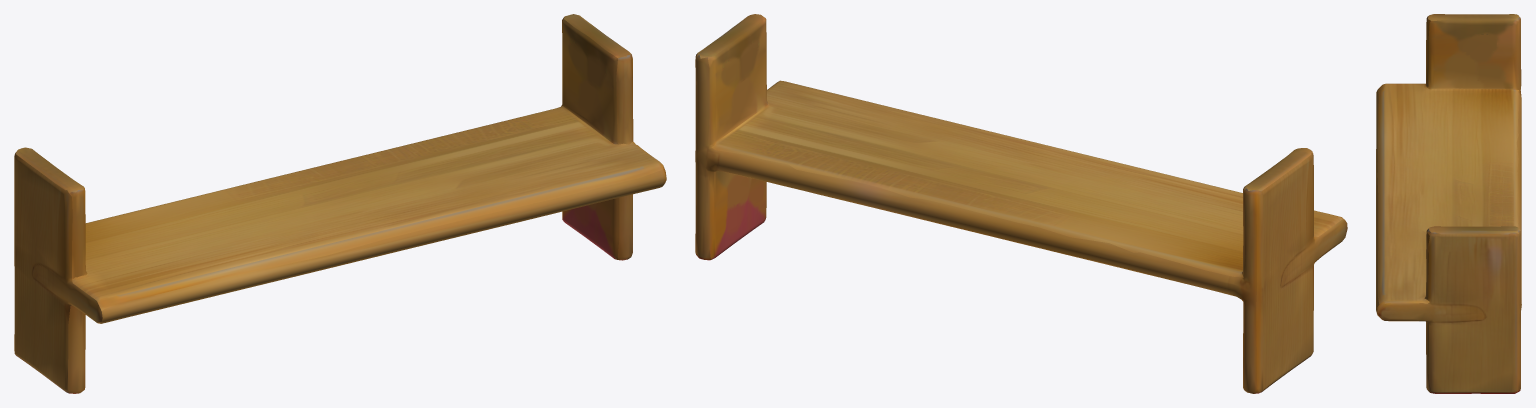
The model's file is EtagereBois_3D_textured.glb.
3 views of the same model, side by side, from view 1: azimuth 30°, elevation 25°; view 2: azimuth 150°, elevation 25°; view 3: azimuth 270°, elevation 25° (orthographic). The views are drawn at different scales.
Visible parts, largest first — view 1: temp_mesh.ply; view 2: temp_mesh.ply; view 3: temp_mesh.ply.
Boxes of the visible parts, x1,y1,x2,y2 form: temp_mesh.ply: [14, 14, 666, 393]; temp_mesh.ply: [695, 14, 1347, 393]; temp_mesh.ply: [1376, 14, 1521, 393].
Bounding box in the file's own units: 1.97 × 0.6826 × 0.552.
Materials: 1 (1 with a texture image).
